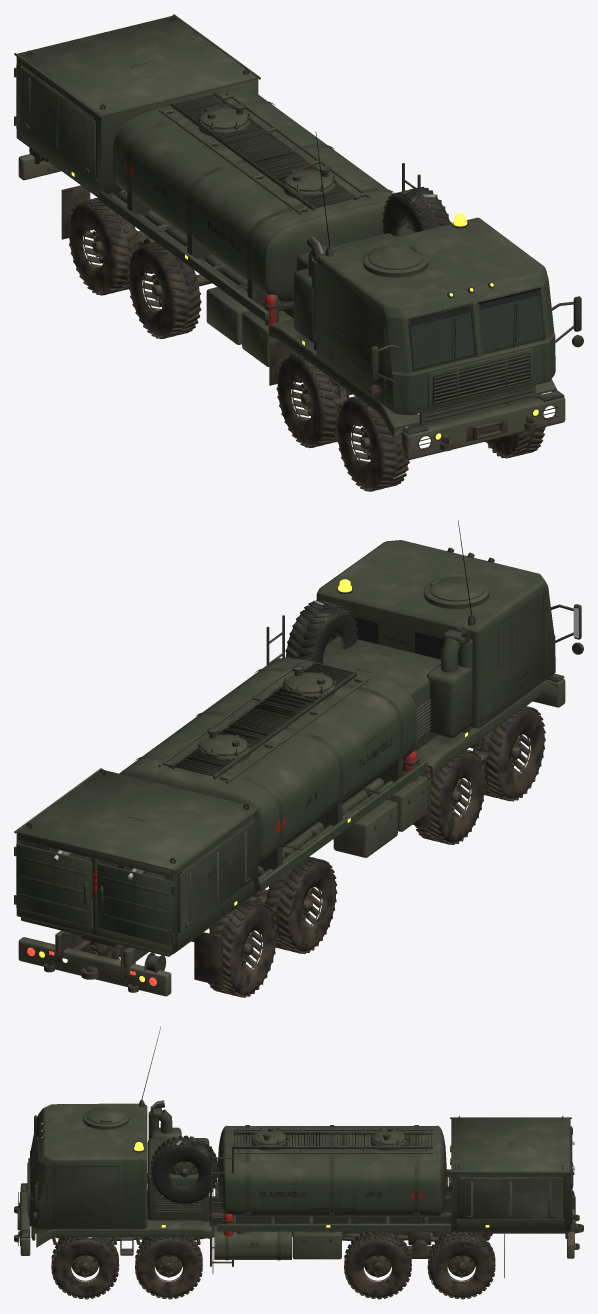
The model's file is hemtt_m978a4.glb.
3 renders of one model, top to bottom at view 1: azimuth 30°, elevation 25°; view 2: azimuth 150°, elevation 25°; view 3: azimuth 270°, elevation 25°, orthographic. The views are drawn at different scales.
Visible parts, largest first — view 1: Cab_Shell, Tank_Shell, Pump_Enclosure, Bumper, Catwalk_And_Handrails, Cab_Glass, Wheel_3_Right_Mesh, Tank_Cradles, Wheel_4_Right_Mesh, Pump_Side_Door_Right_Panel, Wheel_1_Right_Mesh, Wheel_2_Right_Mesh (+15 smaller); view 2: Tank_Shell, Cab_Shell, Pump_Enclosure, Engine_Bay, Catwalk_And_Handrails, Pump_Door_Right_Panel, Pump_Door_Left_Panel, Tank_Cradles, Wheel_3_Right_Mesh, Rear_Bumper, Pump_Side_Door_Right_Panel, Wheel_4_Right_Mesh (+12 smaller); view 3: Tank_Shell, Cab_Shell, Pump_Enclosure, Pump_Side_Door_Left_Panel, Tank_Cradles, Wheel_3_Left_Mesh, Wheel_4_Left_Mesh, Wheel_2_Left_Mesh, Wheel_1_Left_Mesh, Spare_Tire_Mesh, Frame_And_Running_Gear, Engine_Bay (+9 smaller).
Boxes of the visible parts, box(x1,y1,x2,y2) form: Cab_Shell: box(316, 217, 555, 415); Tank_Shell: box(113, 90, 411, 301); Pump_Enclosure: box(14, 14, 260, 198); Bumper: box(401, 385, 565, 459); Catwalk_And_Handrails: box(158, 92, 369, 214); Cab_Glass: box(410, 290, 543, 368); Wheel_3_Right_Mesh: box(127, 241, 201, 338); Tank_Cradles: box(99, 100, 394, 322); Wheel_4_Right_Mesh: box(68, 197, 140, 295); Pump_Side_Door_Right_Panel: box(20, 66, 96, 179); Wheel_1_Right_Mesh: box(336, 396, 409, 491); Wheel_2_Right_Mesh: box(276, 352, 346, 448); Tank_Shell: box(119, 658, 416, 865); Cab_Shell: box(316, 540, 555, 728); Pump_Enclosure: box(14, 768, 260, 954); Engine_Bay: box(323, 627, 472, 751); Catwalk_And_Handrails: box(158, 661, 369, 783); Pump_Door_Right_Panel: box(97, 863, 174, 945); Pump_Door_Left_Panel: box(14, 843, 91, 926); Tank_Cradles: box(135, 667, 427, 891); Wheel_3_Right_Mesh: box(264, 856, 337, 953); Rear_Bumper: box(18, 917, 172, 996); Pump_Side_Door_Right_Panel: box(179, 820, 254, 933); Wheel_4_Right_Mesh: box(208, 900, 277, 997); Tank_Shell: box(217, 1125, 446, 1216); Cab_Shell: box(29, 1103, 147, 1229); Pump_Enclosure: box(450, 1116, 571, 1231); Pump_Side_Door_Left_Panel: box(458, 1177, 563, 1219); Tank_Cradles: box(217, 1125, 451, 1232); Wheel_3_Left_Mesh: box(344, 1231, 411, 1299); Wheel_4_Left_Mesh: box(427, 1231, 495, 1299); Wheel_2_Left_Mesh: box(135, 1237, 202, 1299); Wheel_1_Left_Mesh: box(51, 1237, 119, 1299); Spare_Tire_Mesh: box(150, 1135, 218, 1205); Frame_And_Running_Gear: box(35, 1196, 575, 1258); Engine_Bay: box(147, 1100, 209, 1221).
Bounding box in the file's own units: 3.16 × 4.45 × 10.39.
9 materials, 3 textured.
